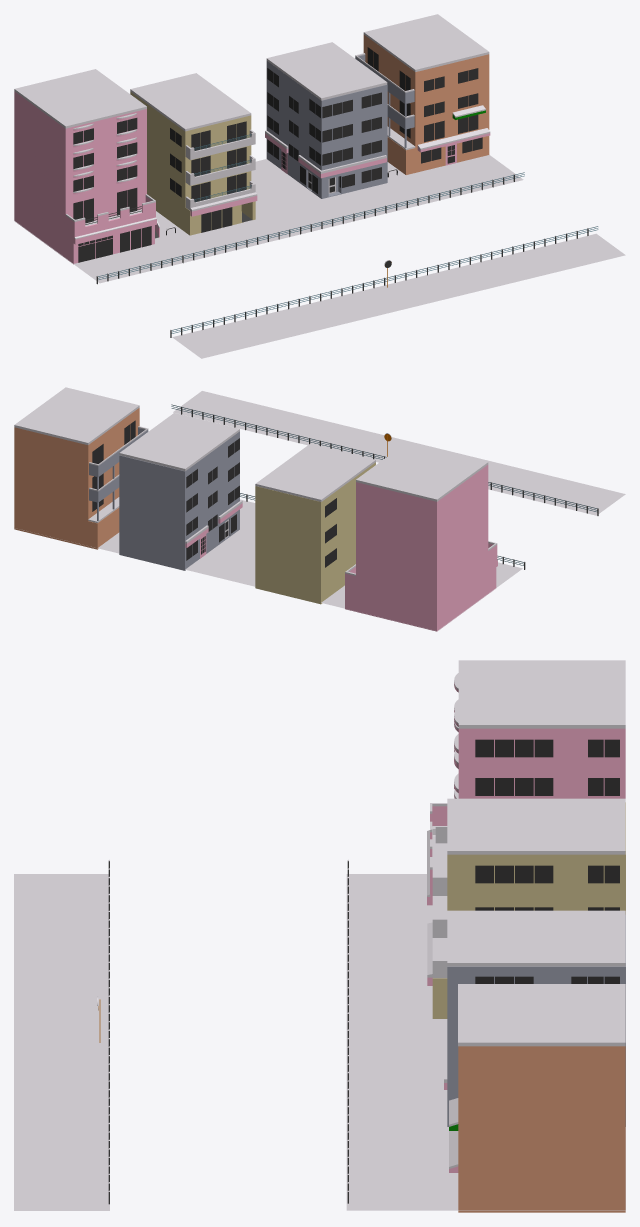
File: snowheisei.gltf
3 renders of one model, top to bottom at view 1: azimuth 30°, elevation 25°; view 2: azimuth 150°, elevation 25°; view 3: azimuth 270°, elevation 25°, orthographic. The views are drawn at different scales.
Parts seen in each view (by area): view 1: Cube.032, Cube.001, Cube, Cube.049, Cube.053, Cube.043, Cube.054, Cube.162, Cube.115, Cube.055, Cube.137, Cube.044 (+7 smaller); view 2: Cube.001, Cube.049, Cube.053, Cube.043, Cube, Cube.054, Cube.162, Cube.115, Cube.055, Cube.032, Cube.161, Cube.160; view 3: Cube, Cube.032, Cube.053, Cube.054, Cube.162, Cube.055, Cube.115, Cube.043, Cube.001, Cube.049, Cube.048, Cube.157 (+3 smaller).
Boxes of the visible parts, x1,y1,x2,y2 form: Cube.032: [15, 155, 523, 283]; Cube.001: [14, 91, 159, 264]; Cube: [172, 233, 625, 358]; Cube.049: [266, 61, 387, 198]; Cube.053: [363, 34, 489, 174]; Cube.043: [130, 91, 255, 235]; Cube.054: [14, 69, 146, 128]; Cube.162: [363, 14, 489, 150]; Cube.115: [266, 42, 387, 100]; Cube.055: [130, 73, 251, 131]; Cube.137: [78, 226, 151, 262]; Cube.044: [185, 155, 255, 185]; Cube.001: [345, 465, 497, 631]; Cube.049: [119, 431, 239, 570]; Cube.053: [14, 408, 139, 549]; Cube.043: [255, 462, 375, 604]; Cube: [173, 391, 625, 515]; Cube.054: [356, 442, 488, 501]; Cube.162: [14, 387, 139, 522]; Cube.115: [119, 413, 239, 471]; Cube.055: [255, 443, 375, 501]; Cube.032: [23, 499, 522, 630]; Cube.161: [89, 428, 148, 476]; Cube.160: [89, 476, 119, 502]; Cube: [14, 874, 109, 1210]; Cube.032: [346, 874, 625, 1210]; Cube.053: [458, 1046, 625, 1212]; Cube.054: [458, 660, 625, 728]; Cube.162: [458, 984, 625, 1046]; Cube.055: [447, 798, 625, 854]; Cube.115: [447, 910, 625, 966]; Cube.043: [432, 802, 625, 1018]; Cube.001: [427, 728, 625, 905]; Cube.049: [447, 915, 625, 1126]; Cube.048: [475, 865, 619, 883]; Cube.157: [475, 739, 619, 757].
Size of the model in its own units: 52.33 by 15.85 by 39.89.
